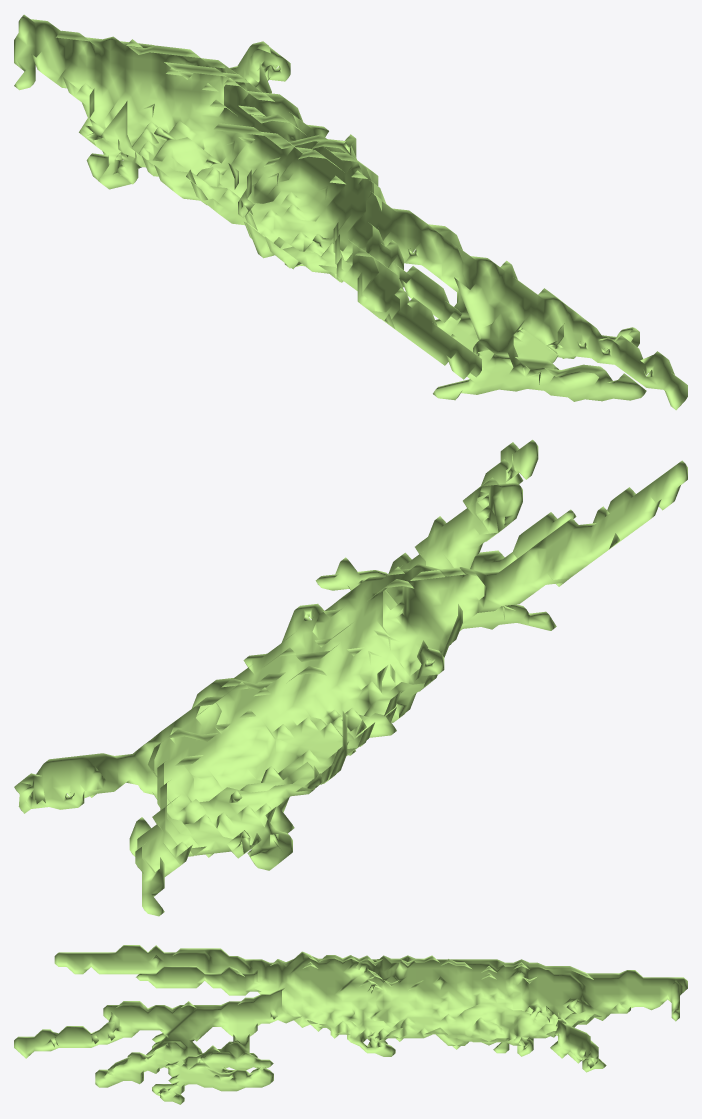
File: osteocyte_5.glb
3 views of the same model, one above another, from view 1: azimuth 30°, elevation 25°; view 2: azimuth 150°, elevation 25°; view 3: azimuth 270°, elevation 25° (orthographic). The views are drawn at different scales.
Visible parts, largest first — view 1: osteocyte_5; view 2: osteocyte_5; view 3: osteocyte_5.
Boxes of the visible parts, left/top/right/bottom form: osteocyte_5: left=14, top=14, right=687, bottom=410; osteocyte_5: left=14, top=439, right=687, bottom=916; osteocyte_5: left=14, top=945, right=687, bottom=1104.
Bounding box in the file's own units: 12.04 × 5.78 × 39.96.
